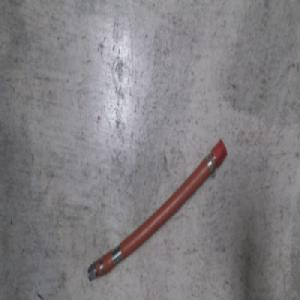Hose: (87, 135, 227, 284)
